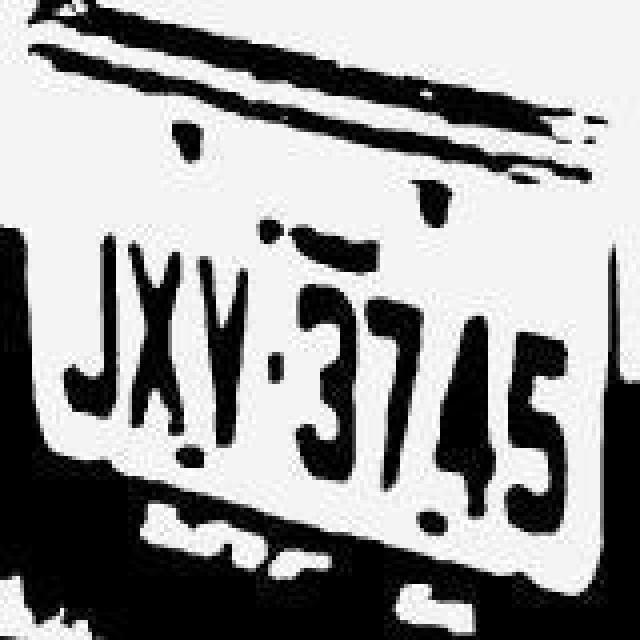3: (286, 282, 362, 486)
4: (432, 294, 496, 522)
5: (500, 322, 572, 542)
7: (360, 294, 424, 506)
J: (52, 206, 124, 434)
V: (198, 252, 266, 452)
X: (126, 206, 194, 434)
